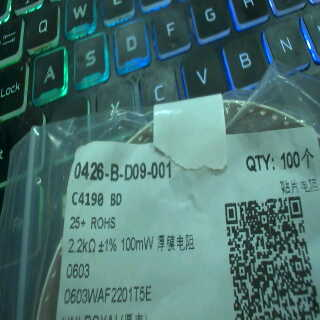2.2kR: (65, 234, 96, 256)
